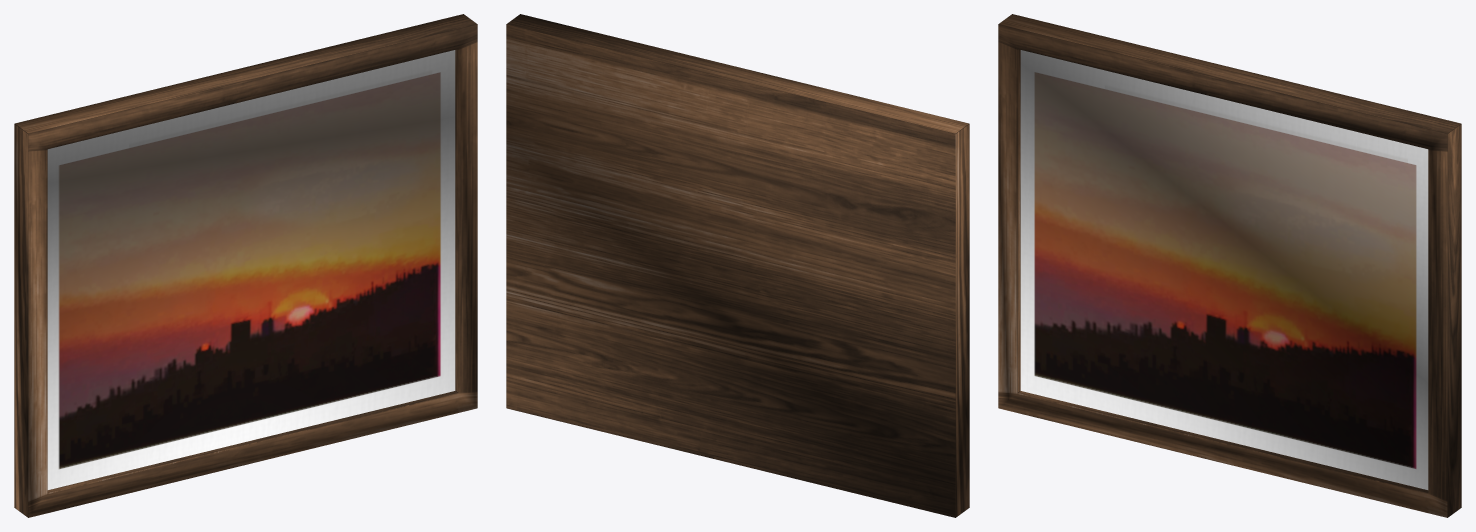
3 renders of one model, left to right at view 1: azimuth 30°, elevation 25°; view 2: azimuth 150°, elevation 25°; view 3: azimuth 330°, elevation 25°, orthographic.
Visible parts, largest first — view 1: Plano.001; view 2: Plano.001; view 3: Plano.001.
Boxes of the visible parts, x1,y1,x2,y2 form: Plano.001: (14, 14, 477, 517); Plano.001: (506, 14, 969, 517); Plano.001: (998, 14, 1461, 517).
Bounding box in the file's own units: 0.6215 × 0.5079 × 0.0334.
1 material, 1 textured.
